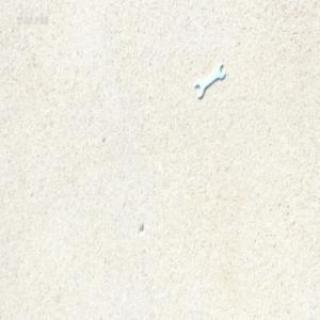Wrenchtrack_idkeyframe: (194, 64, 223, 98)
